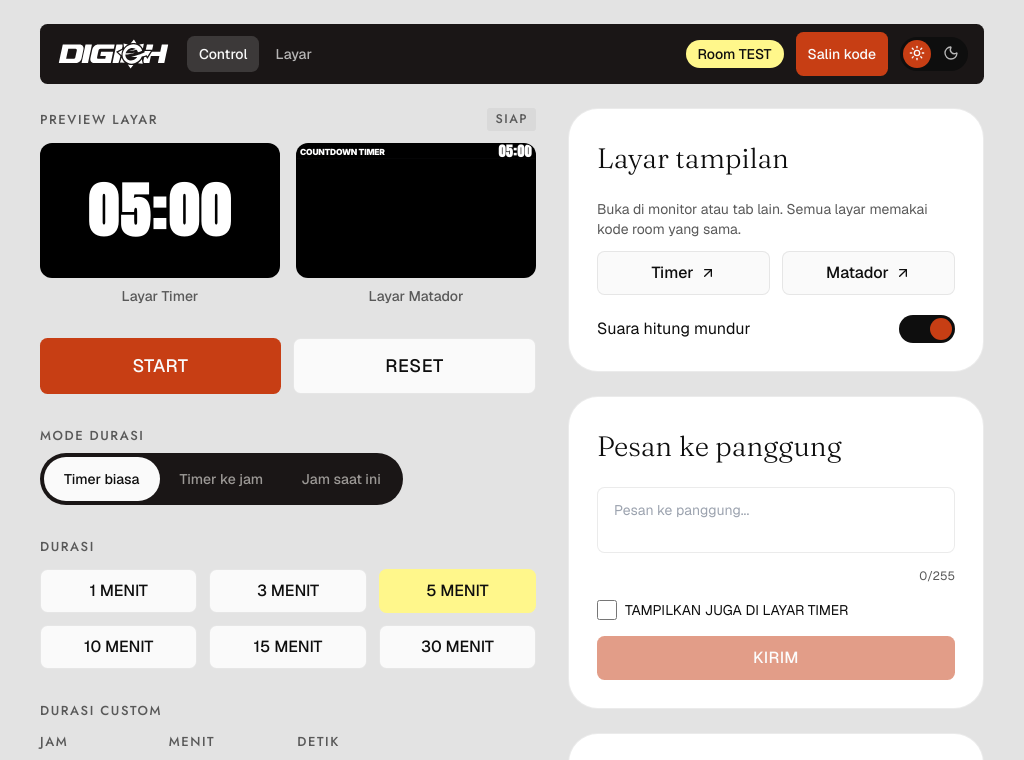
ControlPage › pesan ke panggung › kirim pesan: input diganti panel PESAN AKTIF + tombol DONE/HIDE
In the text box with test id "stage-text": (776, 520) [597,487,955,553], type "Mohon tenang"
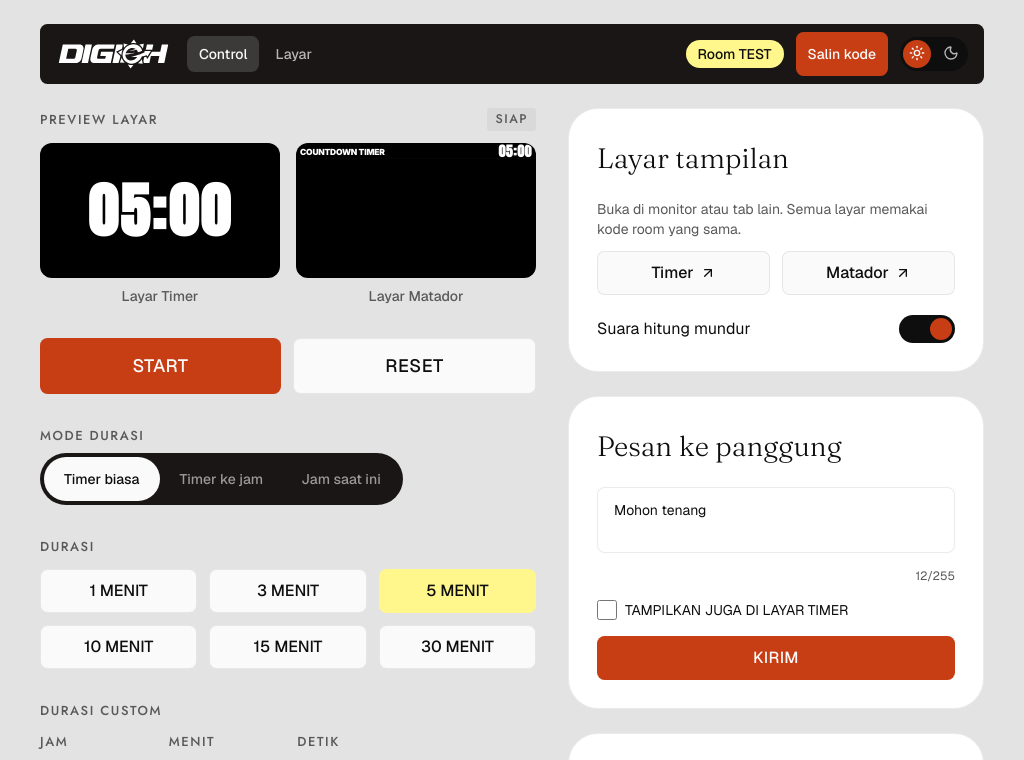
Click the button "KIRIM": (776, 658) [597,636,955,680]
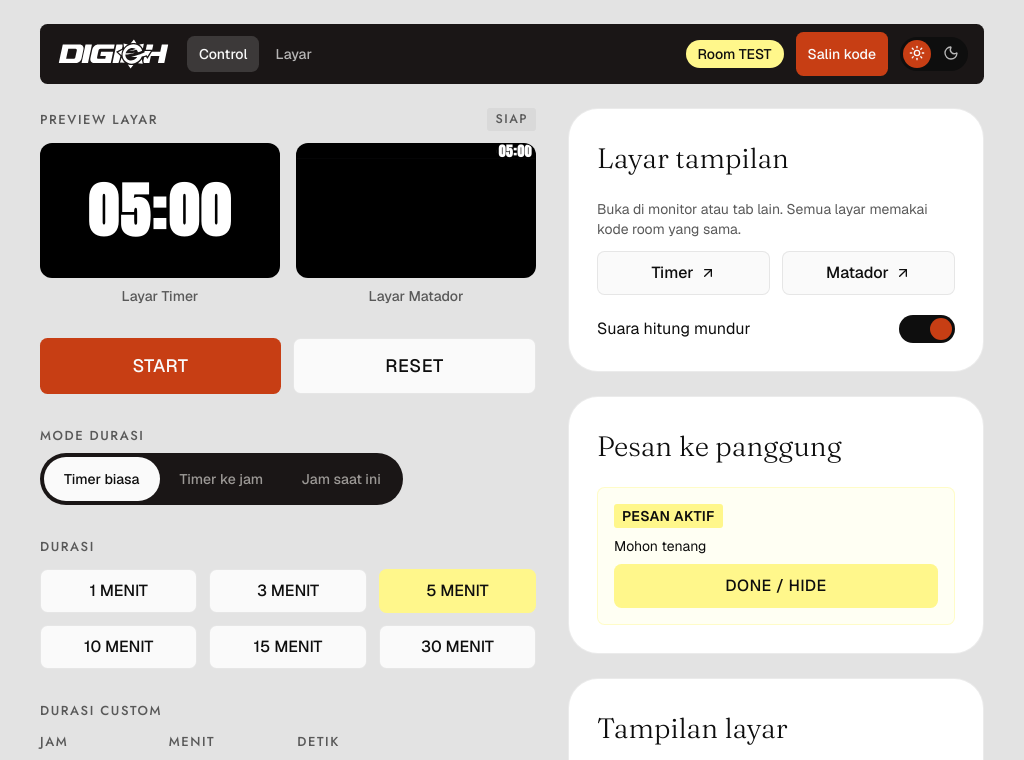
Result: the text box with test id "stage-text" is gone
Result: the text "Mohon tenang" is shown 2 times
Result: the button "DONE / HIDE" is shown at [614,564,938,608]
